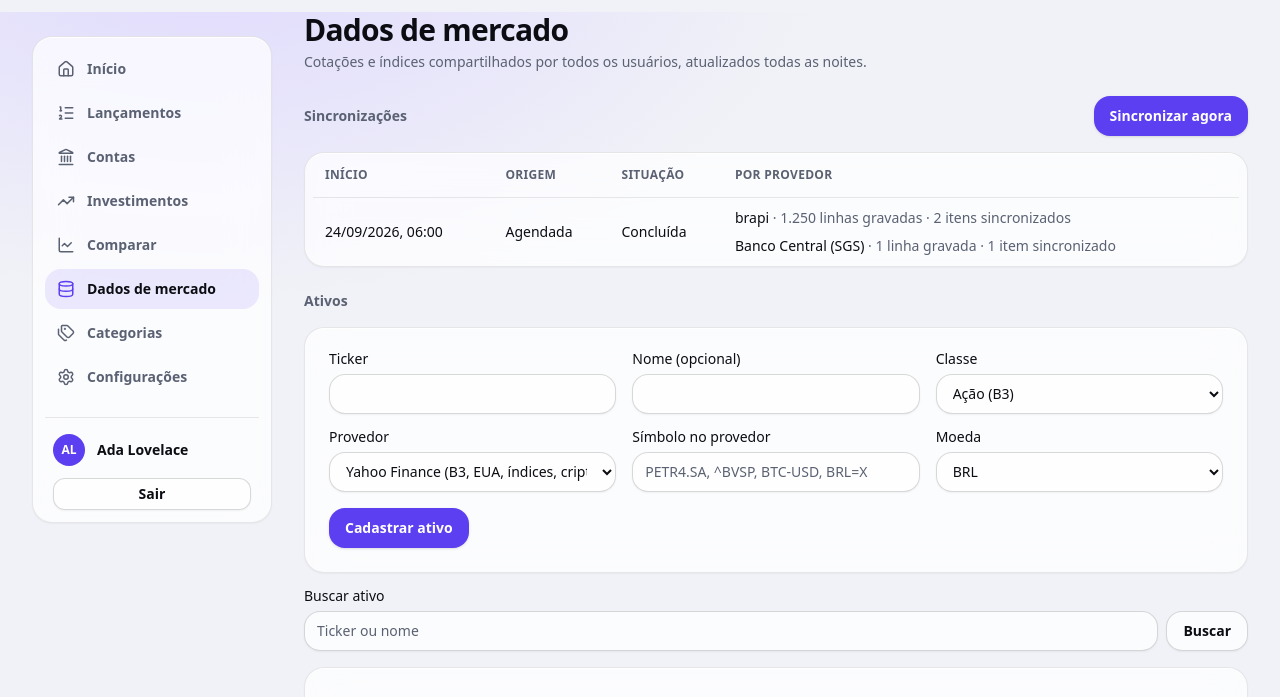
Test: MarketDataPage: sync runs › shows the API refusal of a sync verbatim
Expected: the row with test id "sync-run-run-ok" is shown, [313,197,1239,266]
Click the button "Sincronizar agora".
click(1171, 116)  # box [1094,96,1248,136]
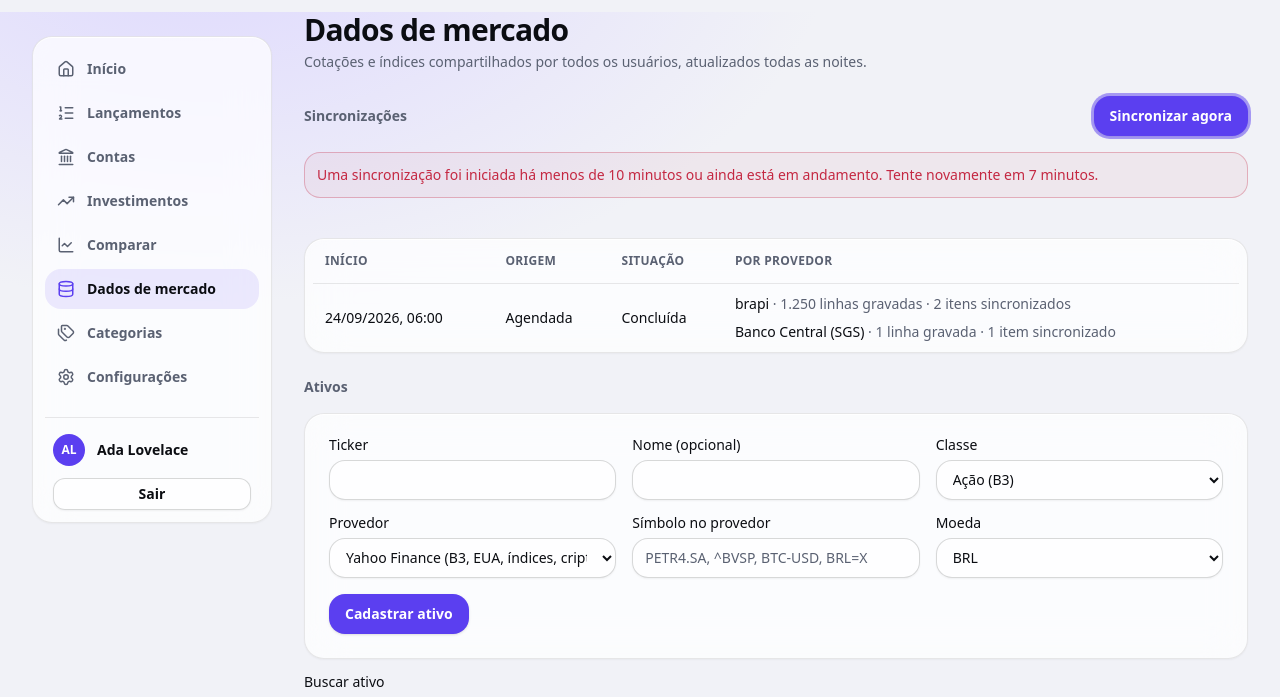
Now the message shows "Uma sincronização foi iniciada há menos de 10 minutos ou ainda está em andamento. Tente novamente em 7 minutos.", box [317,165,1098,184]
